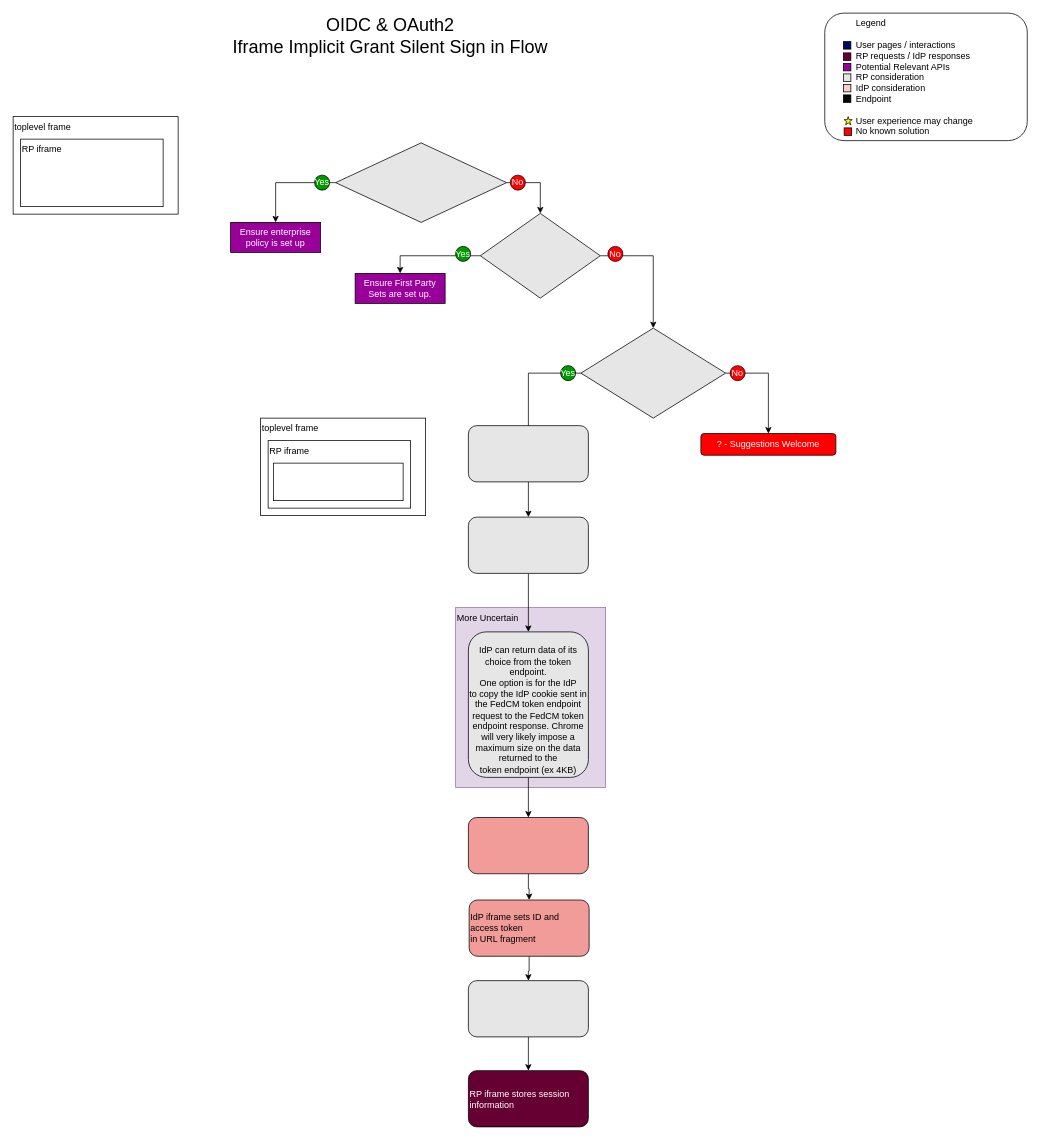
This 1041x1140 diagram has some shape labels left out. Each missing label, with the centre of its shape:
Are third-party cookies enabled via enterprise policy?: (x=421, y=182)
Did the user grant FedCM consent for (toplevel frame, IDP) pair?: (x=653, y=372)
Dynamically create IdP iframe: (x=528, y=453)
IdP iframe: (x=338, y=481)
IdP iframe call FedCM API navigator.credentials.get() with mediation="silent": (x=528, y=544)
IdP iframe redirects to IdP authorization endpoint: (x=528, y=845)
Is RP iframe in same First Party Set as toplevel frame?: (x=540, y=255)
RP Iframe reads the ID and access token from IdP iframe URL fragment: (x=528, y=1008)
